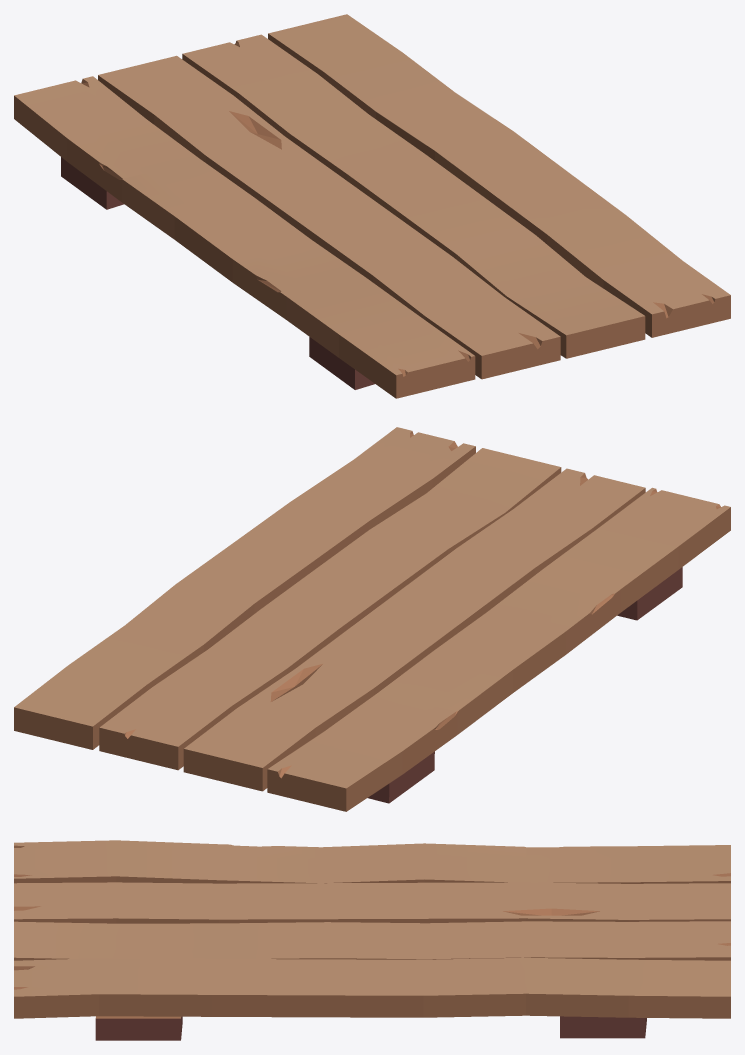
The model's file is counter.fbx.
3 views of the same model, one above another, from view 1: azimuth 30°, elevation 25°; view 2: azimuth 150°, elevation 25°; view 3: azimuth 270°, elevation 25° (orthographic). The views are drawn at different scales.
Visible parts, largest first — view 1: TableTop, TableUnder; view 2: TableTop, TableUnder; view 3: TableTop, TableUnder.
Boxes of the visible parts, x1,y1,x2,y2 form: TableTop: [14, 14, 730, 398]; TableUnder: [61, 157, 374, 389]; TableTop: [14, 427, 730, 811]; TableUnder: [368, 567, 682, 803]; TableTop: [14, 840, 730, 1018]; TableUnder: [95, 1016, 646, 1040].
Bounding box in the file's own units: 3.65 × 1.87 × 0.2855.
